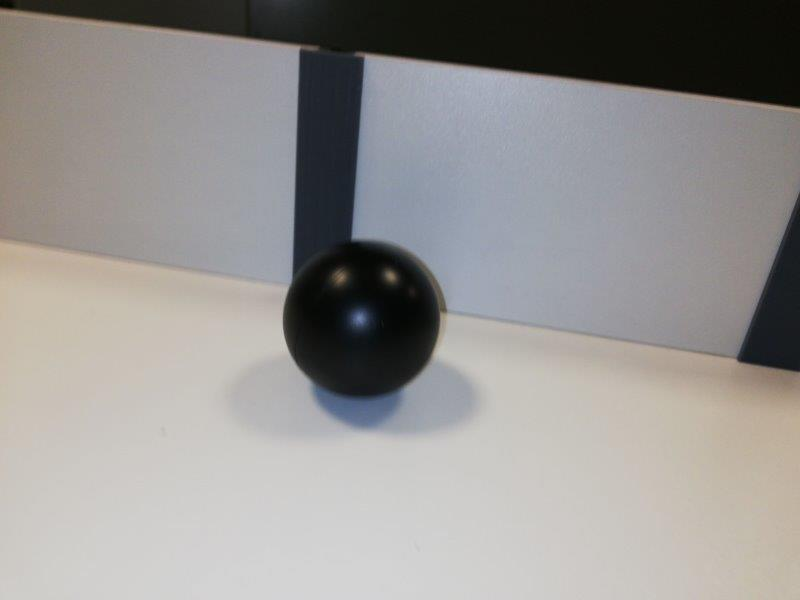nera: (282, 237, 441, 400)
